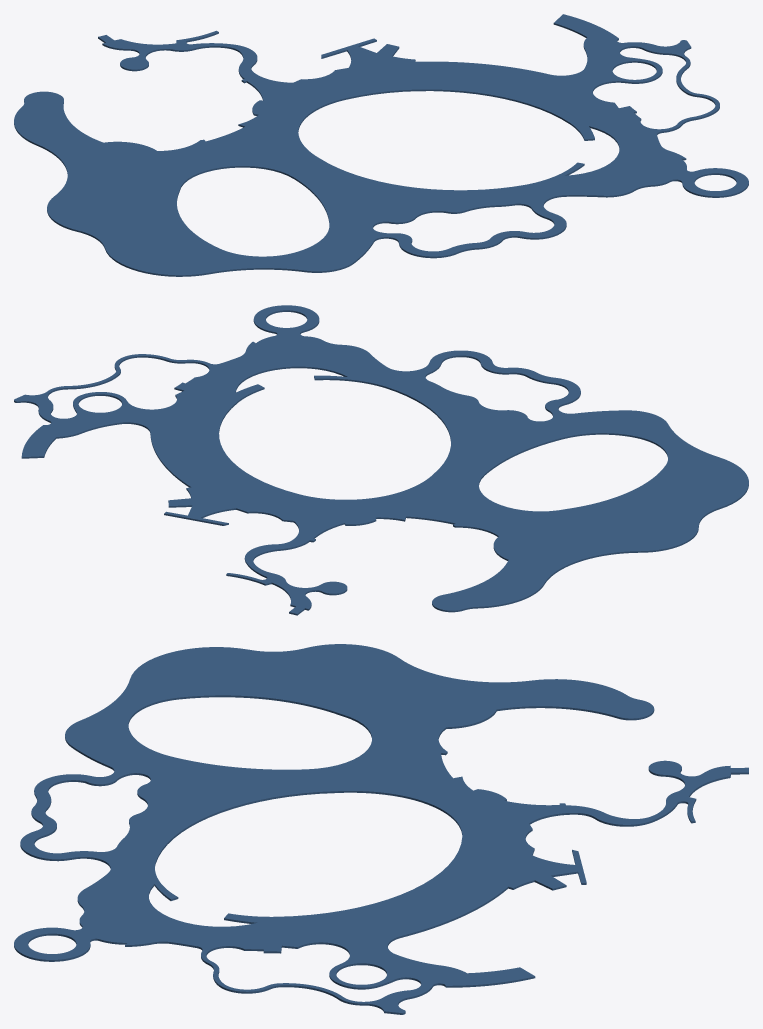
File: Sea.fbx
3 renders of one model, top to bottom at view 1: azimuth 30°, elevation 25°; view 2: azimuth 150°, elevation 25°; view 3: azimuth 270°, elevation 25°, orthographic. The views are drawn at different scales.
Visible parts, largest first — view 1: Sea; view 2: Sea; view 3: Sea.
Part boxes in pixels (left/top/right/bottom): Sea: left=14, top=14, right=748, bottom=276; Sea: left=14, top=305, right=748, bottom=615; Sea: left=14, top=644, right=748, bottom=1014.
Bounding box in the file's own units: 1091 × 2.57 × 918.
